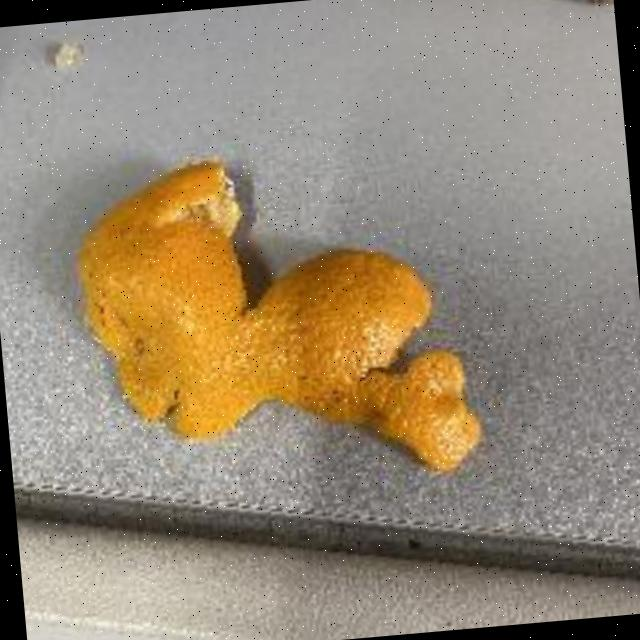orange-peel: (63, 132, 489, 507)
